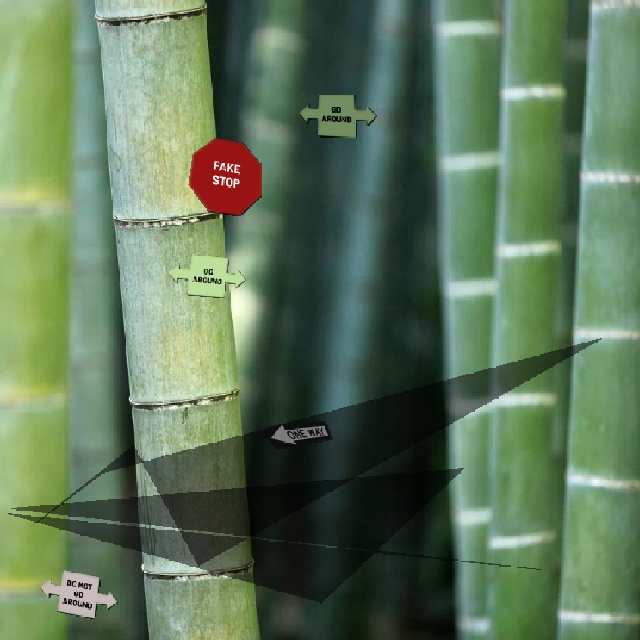DO_NOT_GO_AROUND: (38, 568, 117, 618)
FAKE_STOP: (187, 136, 261, 215)
GO_AROUND: (297, 92, 376, 137), (166, 252, 245, 297)
ONE_WAY_ left: (253, 419, 332, 448)
